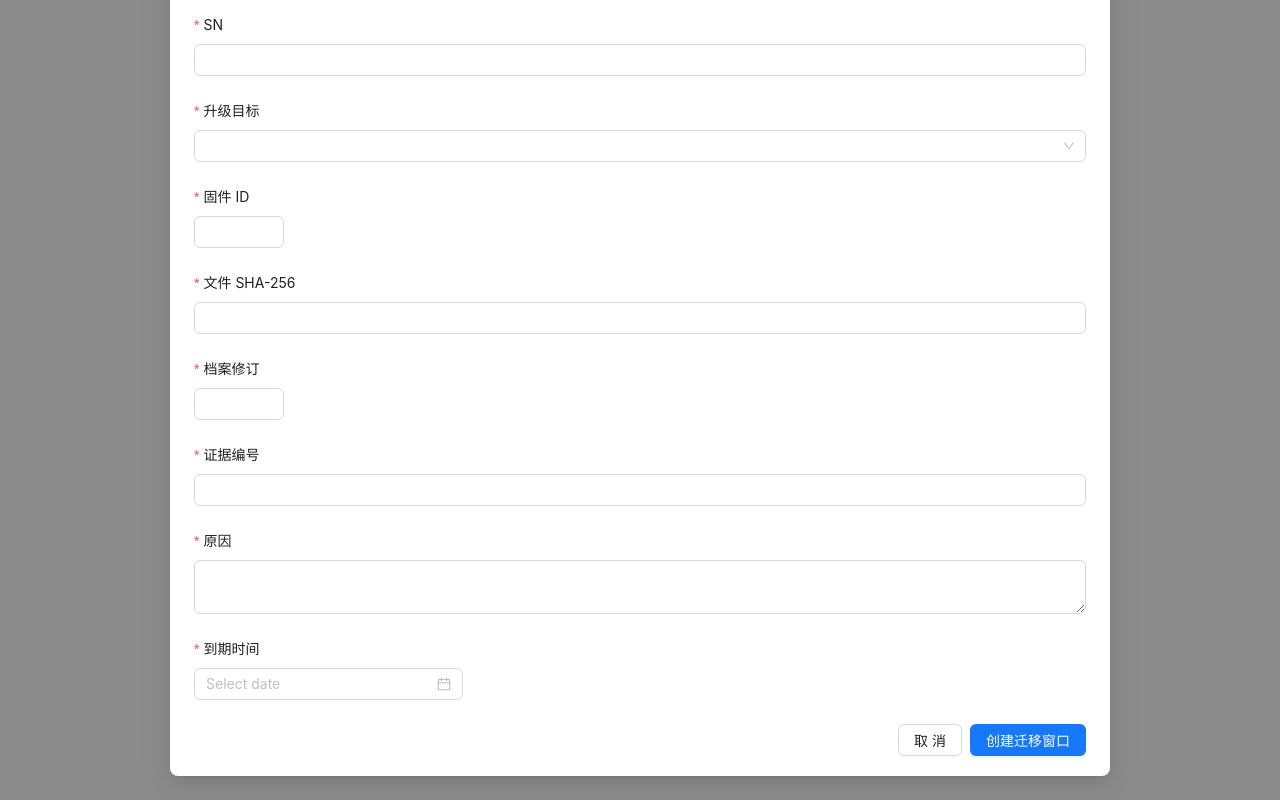
Test: CompatibilityWindowsModal › requires explicit digest, trusted revision and evidence before legacy migration
(page scrolled)
Click the button "创建迁移窗口": (1028, 740) [970,724,1086,756]
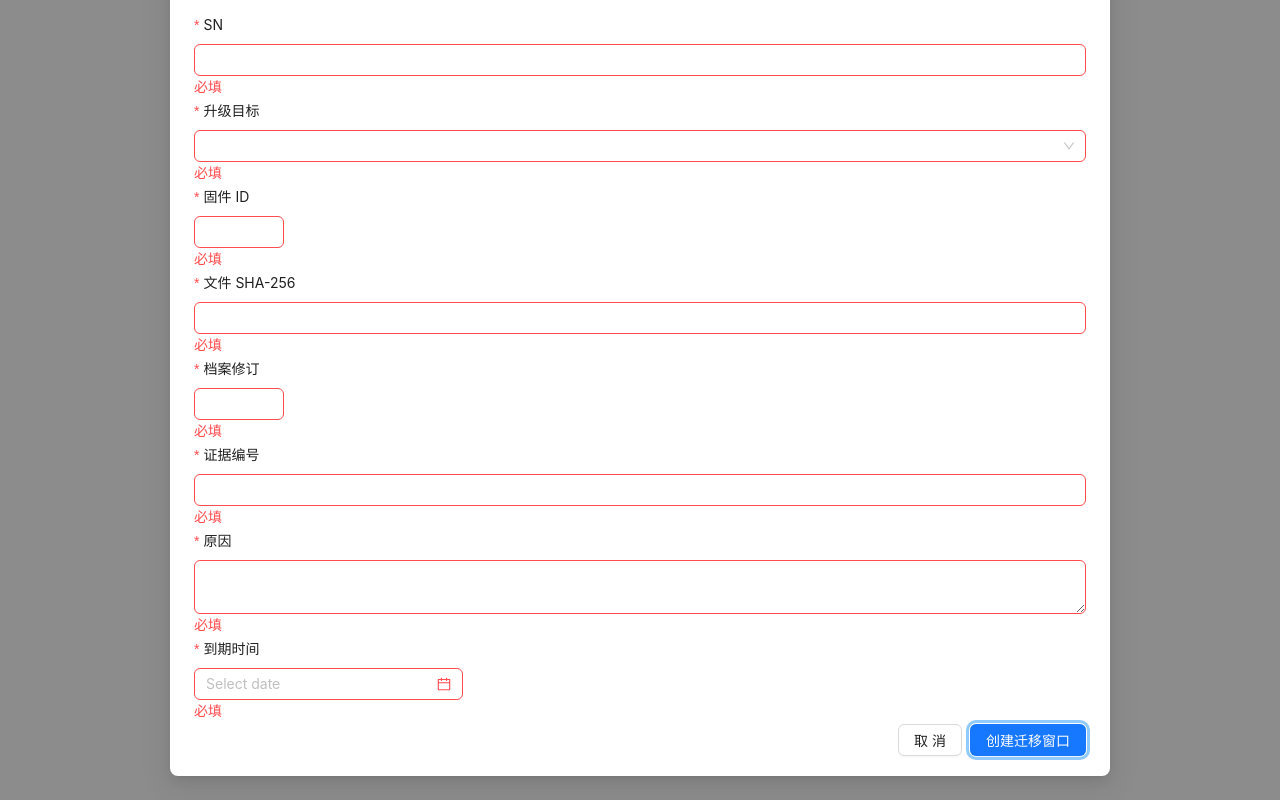
Result: the text "必填" below "SN" is shown at [194,78,222,95]
